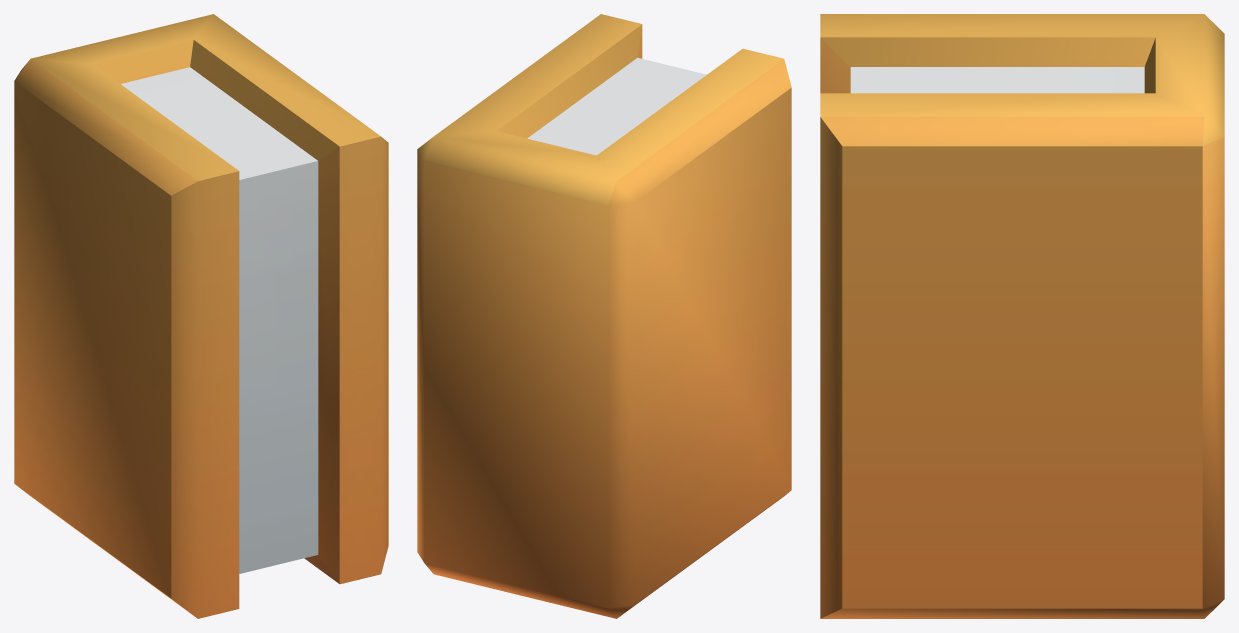
File: book-v1.glb
The picture shows the model from 3 angles, left to right: view 1: azimuth 30°, elevation 25°; view 2: azimuth 150°, elevation 25°; view 3: azimuth 270°, elevation 25°; orthographic projection. The views are drawn at different scales.
Visible parts, largest first — view 1: book_single; view 2: book_single; view 3: book_single.
Boxes of the visible parts, <box> form: book_single: <box>14,14,388,618</box>; book_single: <box>417,14,791,618</box>; book_single: <box>820,14,1224,618</box>.
Bounding box in the file's own units: 0.104 × 0.2 × 0.146.
1 material, 1 textured.
